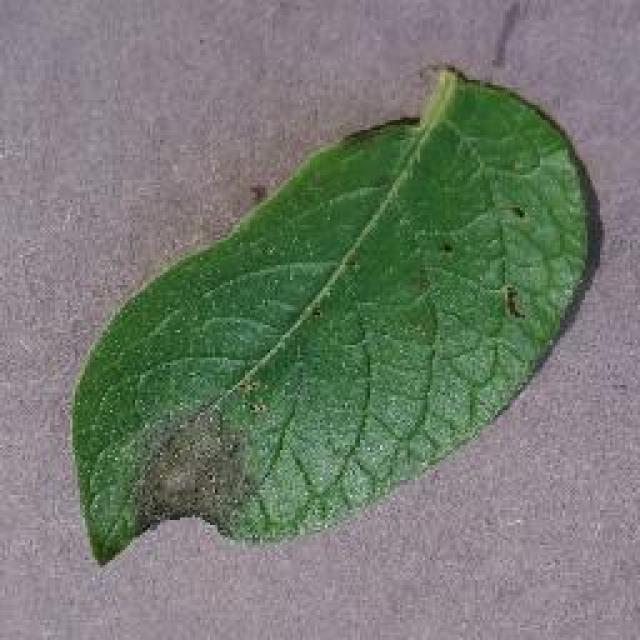Potato___Late_blight: (70, 66, 594, 578)
